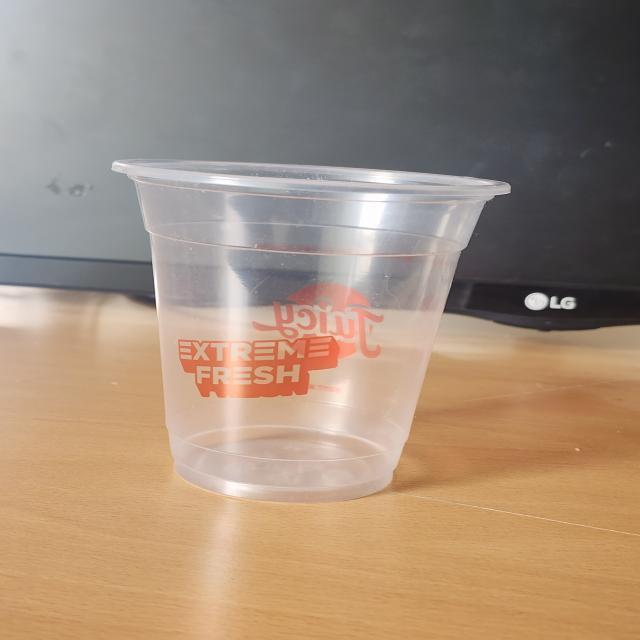bottle: (113, 160, 509, 501)
